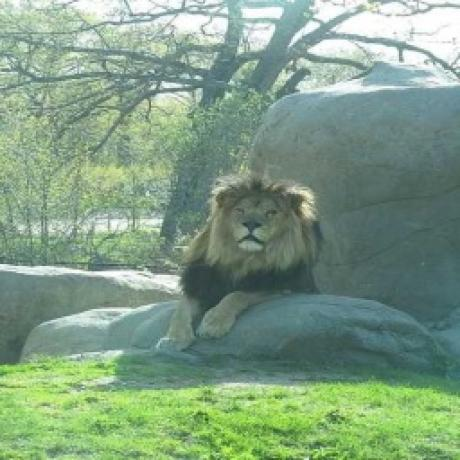Lion: (151, 173, 325, 358)
